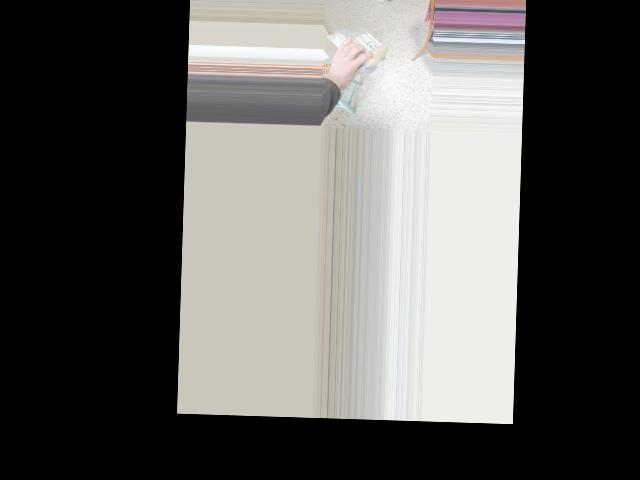cheese: (325, 30, 395, 62)
